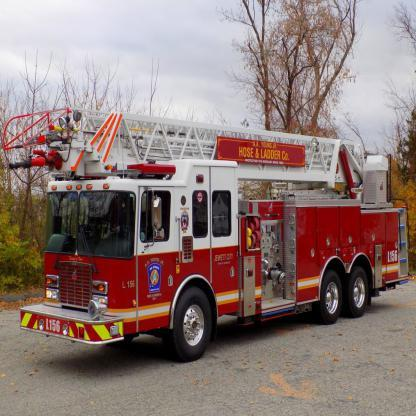fire-truck: (0, 62, 416, 371)
